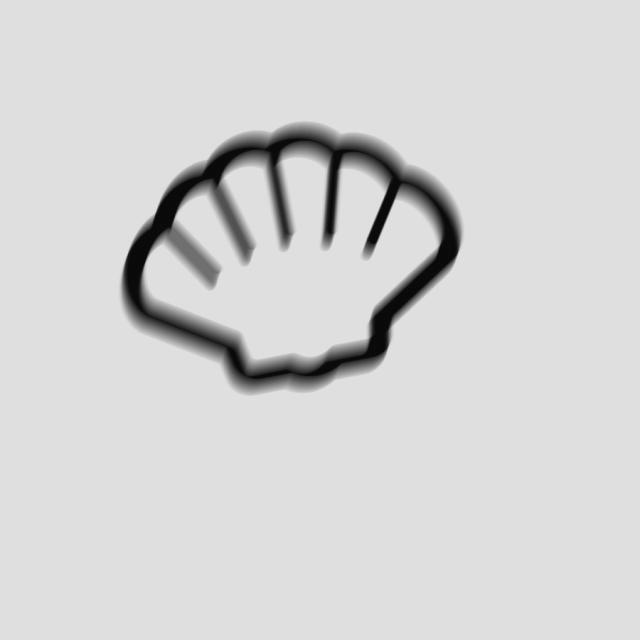shell: (116, 116, 470, 405)
